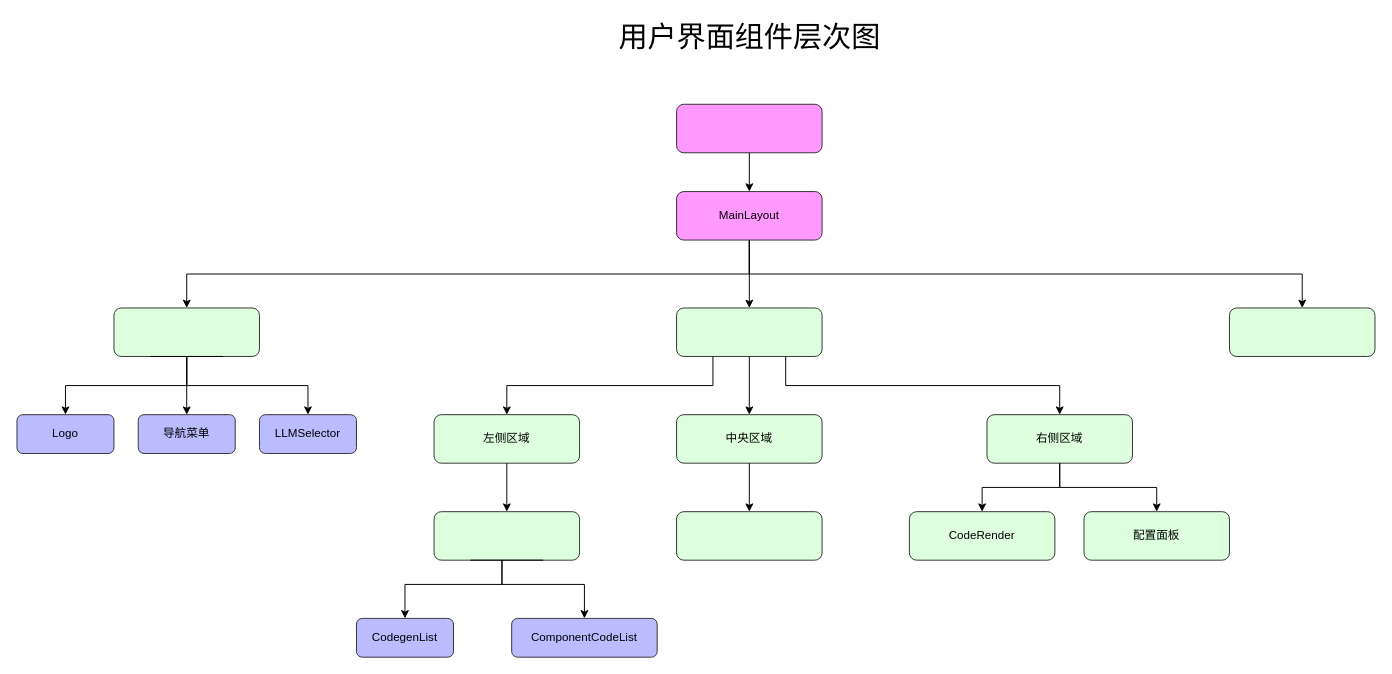
Image size: 1392x674. Some labels were removed from this diagram. The centre of each missing label's shape, as x and y in pixels:
AppFooter: the point at 1302,331
AppHeader: the point at 186,331
AppSidebar: the point at 506,535
主内容区域: the point at 749,331
工作区: the point at 749,535
应用根组件: the point at 749,128
